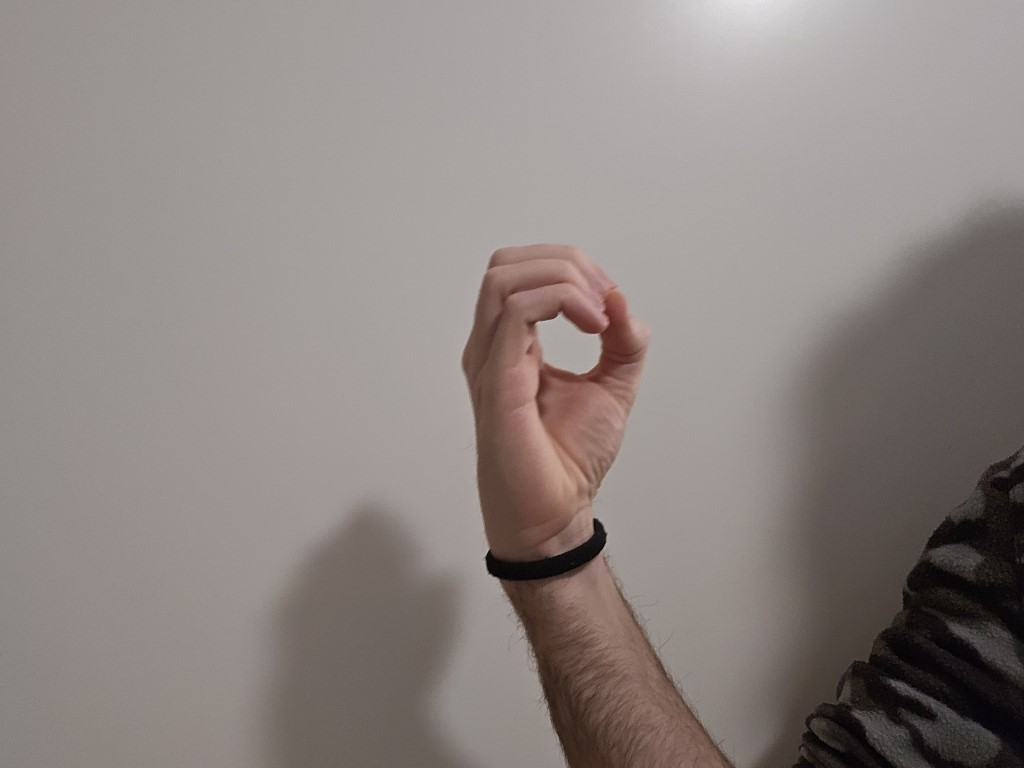o: (439, 230, 667, 522)
